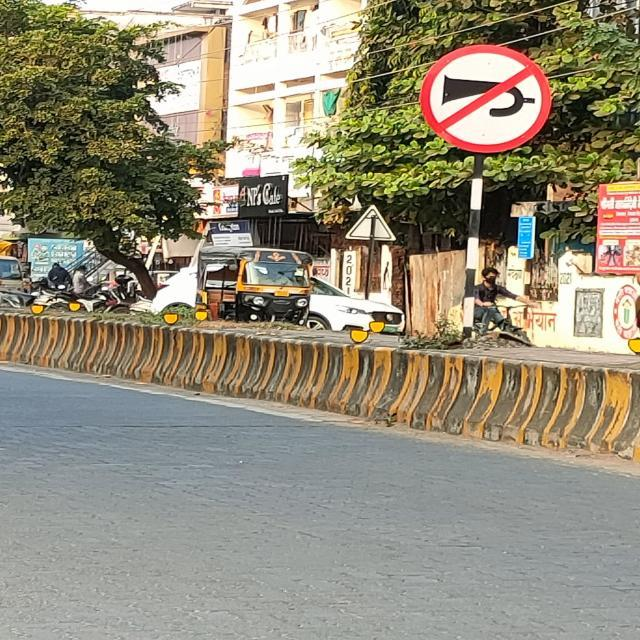horn prohibited: (418, 43, 552, 154)
